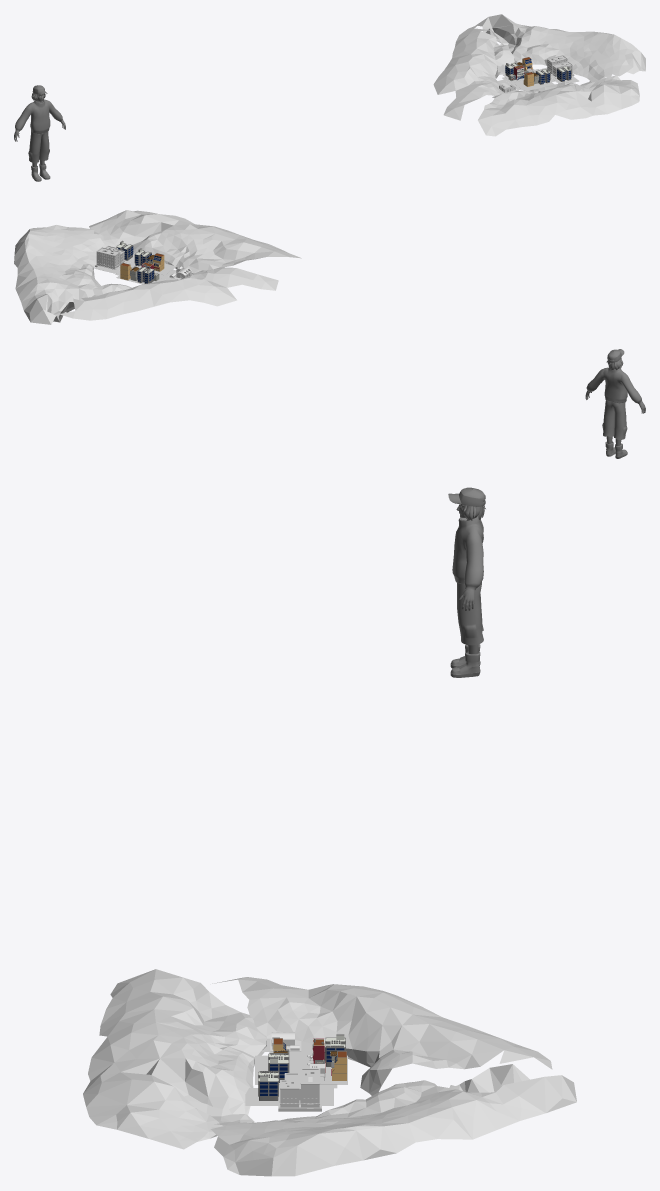
The model's file is Enviroment01.fbx.
3 renders of one model, top to bottom at view 1: azimuth 30°, elevation 25°; view 2: azimuth 150°, elevation 25°; view 3: azimuth 270°, elevation 25°, orthographic. The views are drawn at different scales.
Parts seen in each view (by area): view 1: SC_Mountains_002, SC_Mountains_001, SC_Mountains_003.001, SK_Client01_Anims_LOD0, Cube, Heavy_Residental_3; view 2: SC_Mountains_002, SC_Mountains_001, SC_Mountains_003.001, SK_Client01_Anims_LOD0, Heavy_Residental_3, Cube; view 3: SC_Mountains_001, SC_Mountains_002, SC_Mountains_003.001, SK_Client01_Anims_LOD0, Heavy_Residental_3, Cube.
Part boxes in pixels (x1=…): SC_Mountains_002: x1=475, y1=14, x2=645, y2=82; SC_Mountains_001: x1=478, y1=75, x2=639, y2=136; SC_Mountains_003.001: x1=433, y1=24, x2=515, y2=120; SK_Client01_Anims_LOD0: x1=14, y1=85, x2=65, y2=181; Cube: x1=497, y1=67, x2=579, y2=91; Heavy_Residental_3: x1=547, y1=55, x2=574, y2=78; SC_Mountains_002: x1=14, y1=225, x2=106, y2=324; SC_Mountains_001: x1=89, y1=210, x2=301, y2=273; SC_Mountains_003.001: x1=59, y1=267, x2=278, y2=320; SK_Client01_Anims_LOD0: x1=585, y1=349, x2=645, y2=458; Heavy_Residental_3: x1=95, y1=245, x2=127, y2=269; Cube: x1=95, y1=253, x2=192, y2=284; SC_Mountains_001: x1=83, y1=969, x2=266, y2=1149; SC_Mountains_002: x1=211, y1=1064, x2=576, y2=1176; SC_Mountains_003.001: x1=212, y1=977, x2=552, y2=1095; SK_Client01_Anims_LOD0: x1=448, y1=487, x2=485, y2=677; Heavy_Residental_3: x1=278, y1=1068, x2=321, y2=1111; Cube: x1=245, y1=1038, x2=347, y2=1105.
Size of what is drawn, in the model's own units: 123557 by 18423 by 45322.
